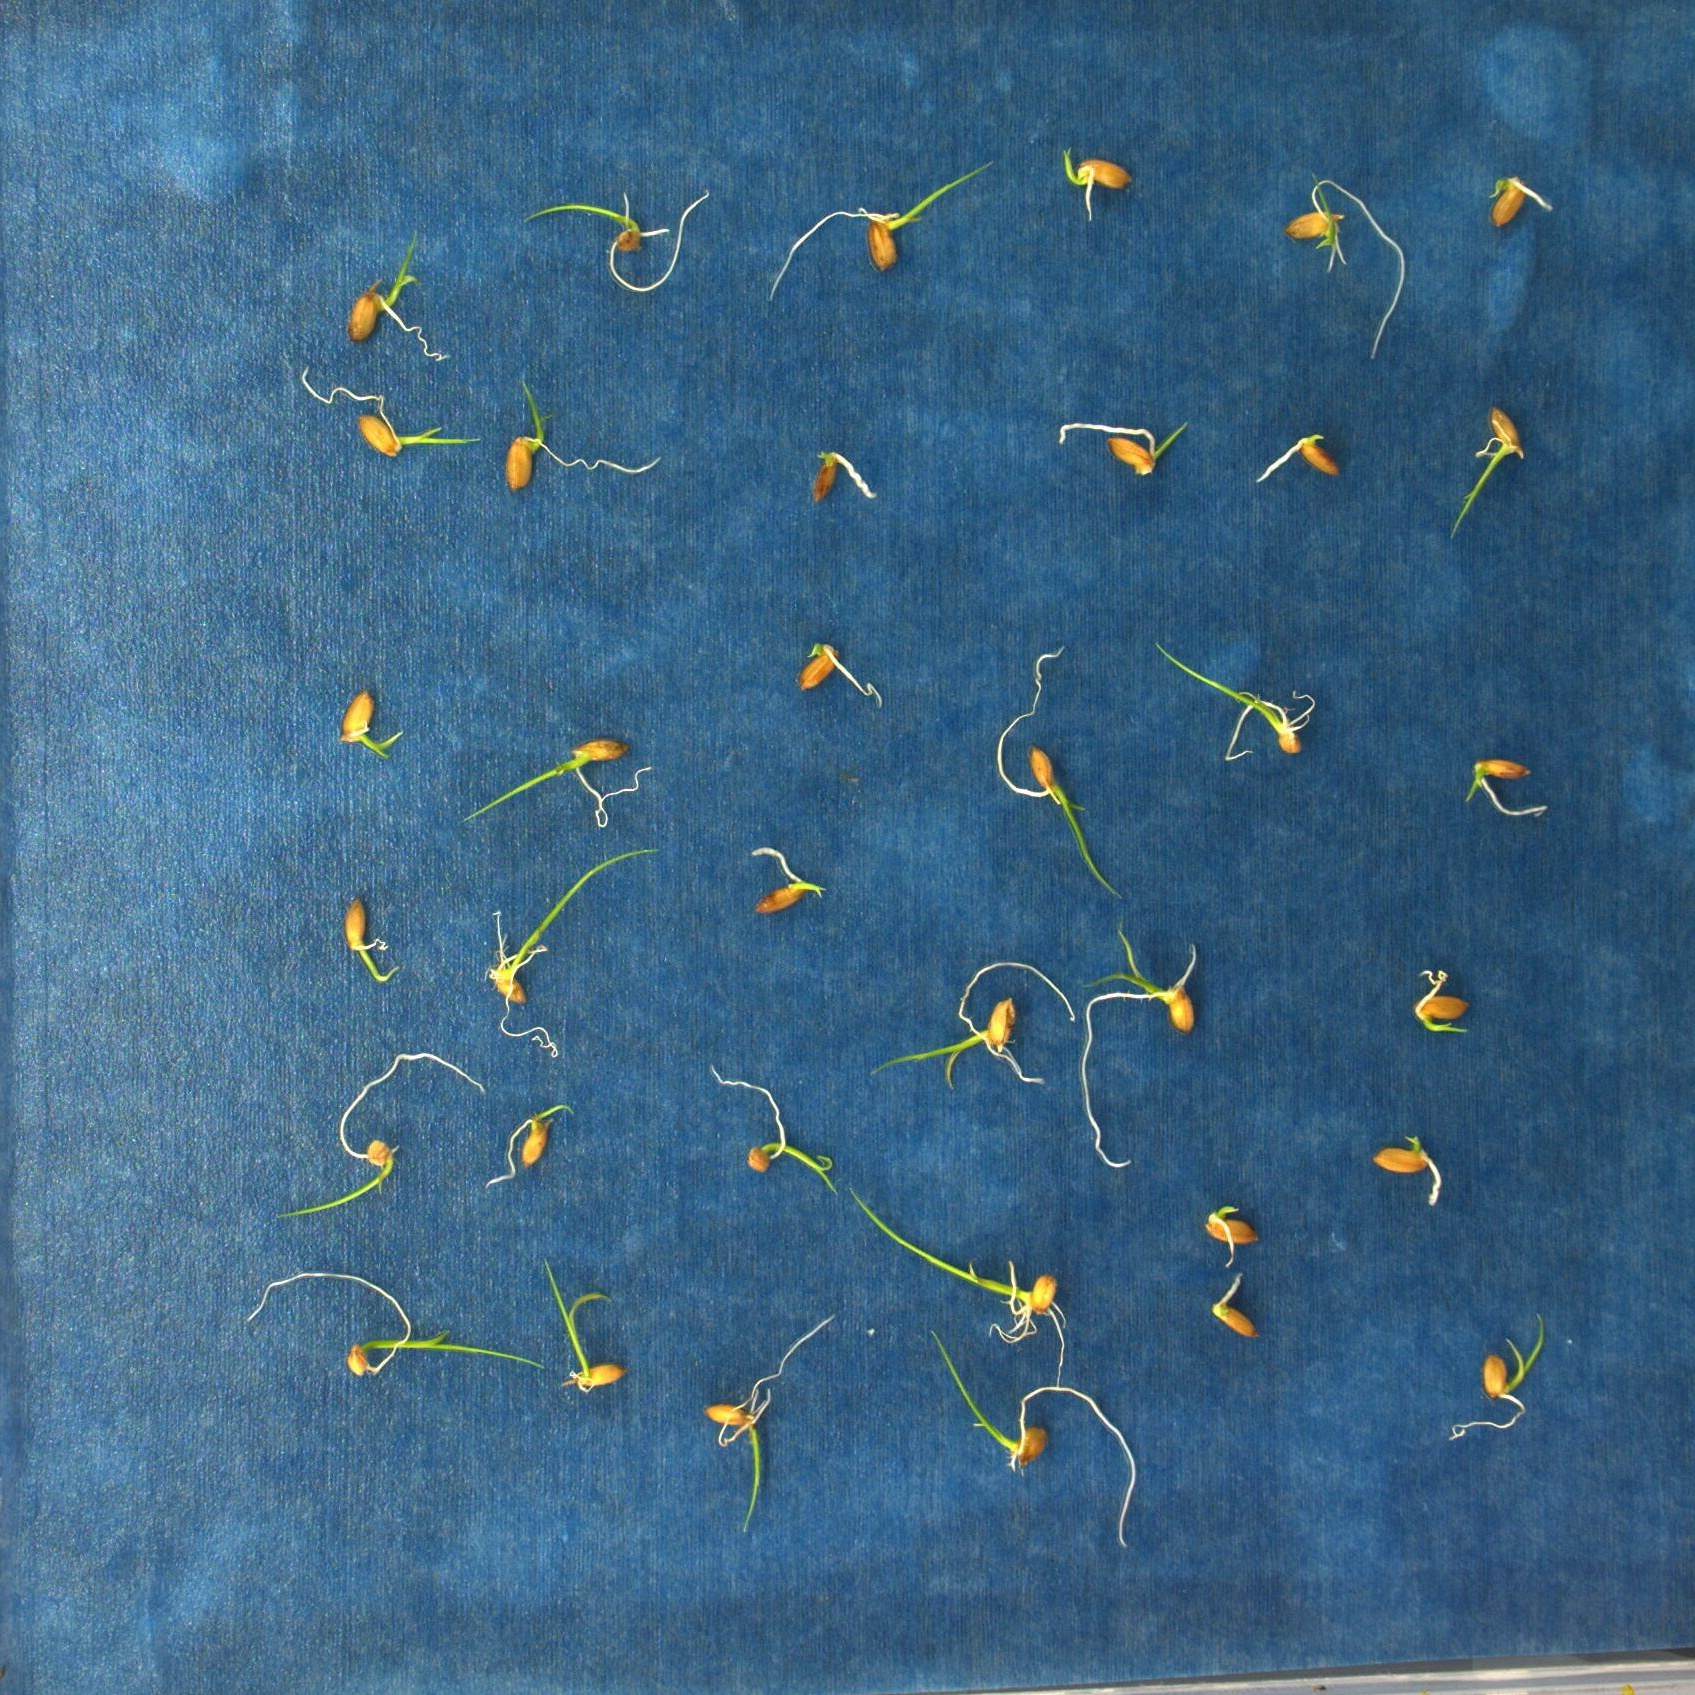not sprout: (796, 644, 885, 712), (1256, 427, 1340, 486), (1375, 1135, 1442, 1208), (809, 449, 875, 506), (1205, 1201, 1257, 1263), (1208, 1274, 1259, 1336)
sprout: (927, 1329, 1136, 1555), (486, 844, 660, 1059), (275, 1051, 487, 1222), (847, 1181, 1066, 1340), (765, 160, 997, 307), (245, 1270, 543, 1380), (998, 643, 1124, 900), (700, 1313, 834, 1537), (1077, 917, 1197, 1166), (866, 962, 1077, 1087), (1282, 169, 1406, 362), (518, 191, 714, 293), (501, 374, 661, 495), (1156, 641, 1315, 761), (709, 1063, 840, 1200), (298, 365, 483, 458), (463, 737, 647, 829), (351, 225, 452, 360), (1447, 1312, 1546, 1440), (543, 1260, 622, 1391), (1453, 405, 1523, 539), (484, 1097, 574, 1186), (1059, 418, 1187, 472), (751, 846, 824, 917), (341, 896, 399, 983), (1062, 152, 1128, 224), (1464, 757, 1544, 816), (338, 689, 402, 759), (1482, 175, 1555, 231), (1406, 972, 1468, 1037)
